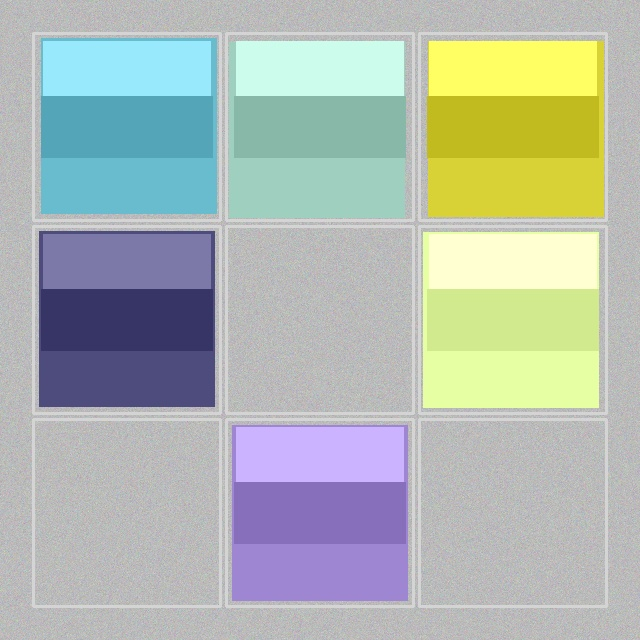space-empty: (228, 228, 411, 411), (35, 421, 218, 604), (421, 421, 604, 604)
space-occupied: (35, 35, 218, 218), (228, 35, 411, 218), (421, 35, 604, 218), (35, 228, 218, 411), (421, 228, 604, 411), (228, 421, 411, 604)
